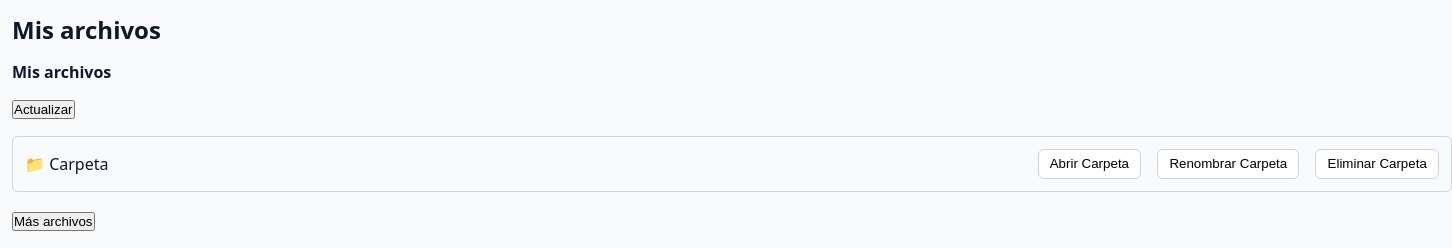
Test: listado y descarga en React › descarta una página tardía al actualizar
Later steps or results of the test are not shown.
expect the button "Abrir Carpeta" is shown: met, box [1038, 149, 1141, 179]
Click the button "Más archivos": {"x": 53, "y": 221} [12, 212, 94, 231]
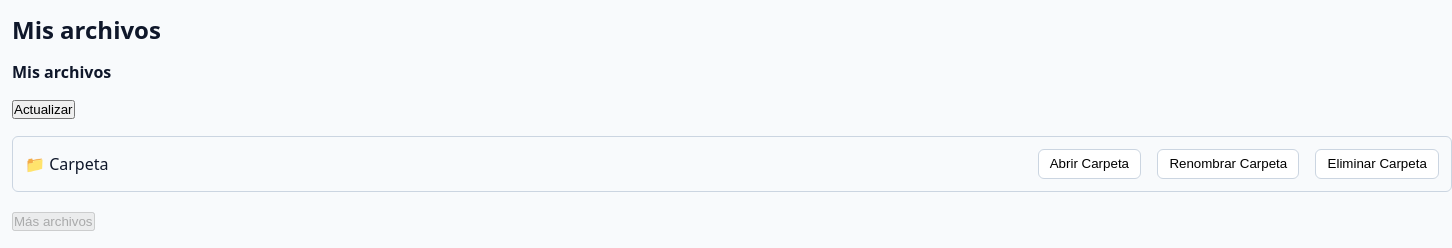
Click the button "Actualizar": {"x": 43, "y": 110} [12, 100, 74, 119]
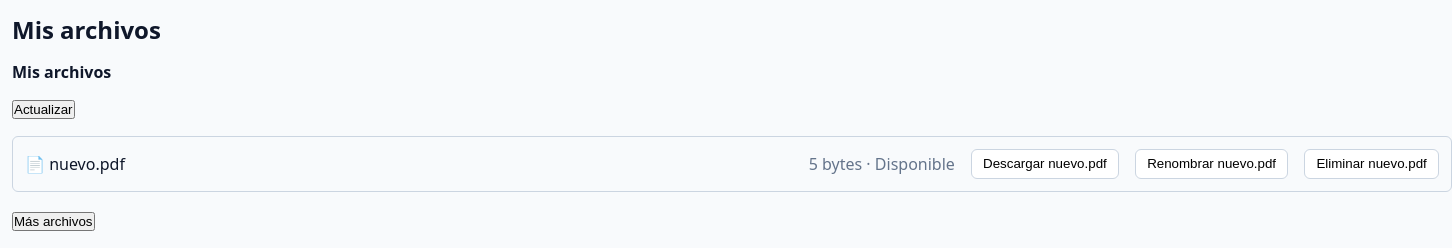
expect the button "Descargar nuevo.pdf" is shown: met, box [971, 149, 1119, 179]
